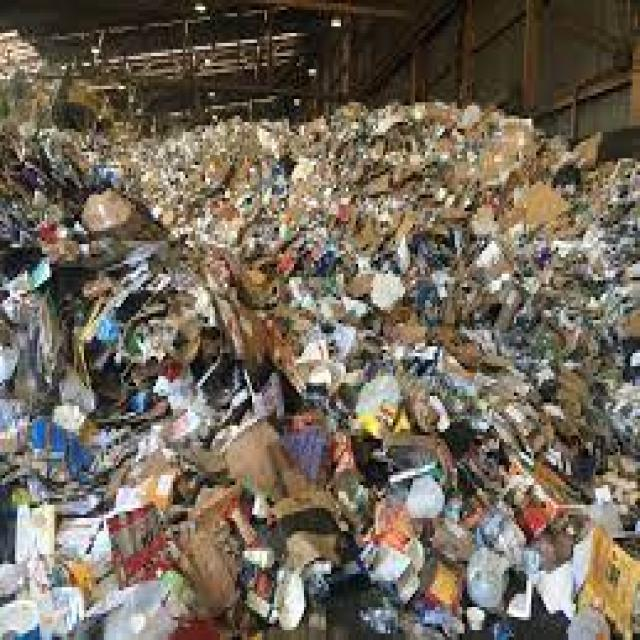cardboard: (205, 449, 339, 587), (12, 178, 141, 238)
trash: (165, 112, 580, 327), (406, 350, 606, 564)
